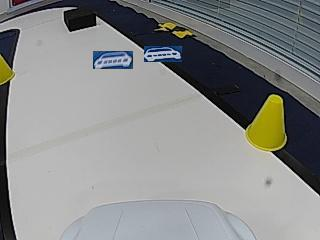block: (63, 7, 96, 31)
cone: (245, 95, 288, 150), (0, 53, 16, 84)
